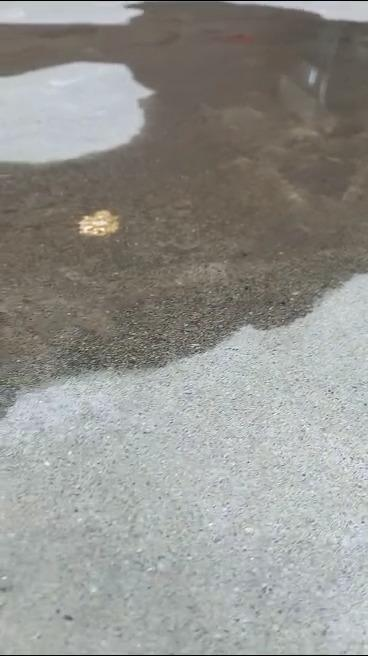water accumulation: (0, 0, 368, 419)
